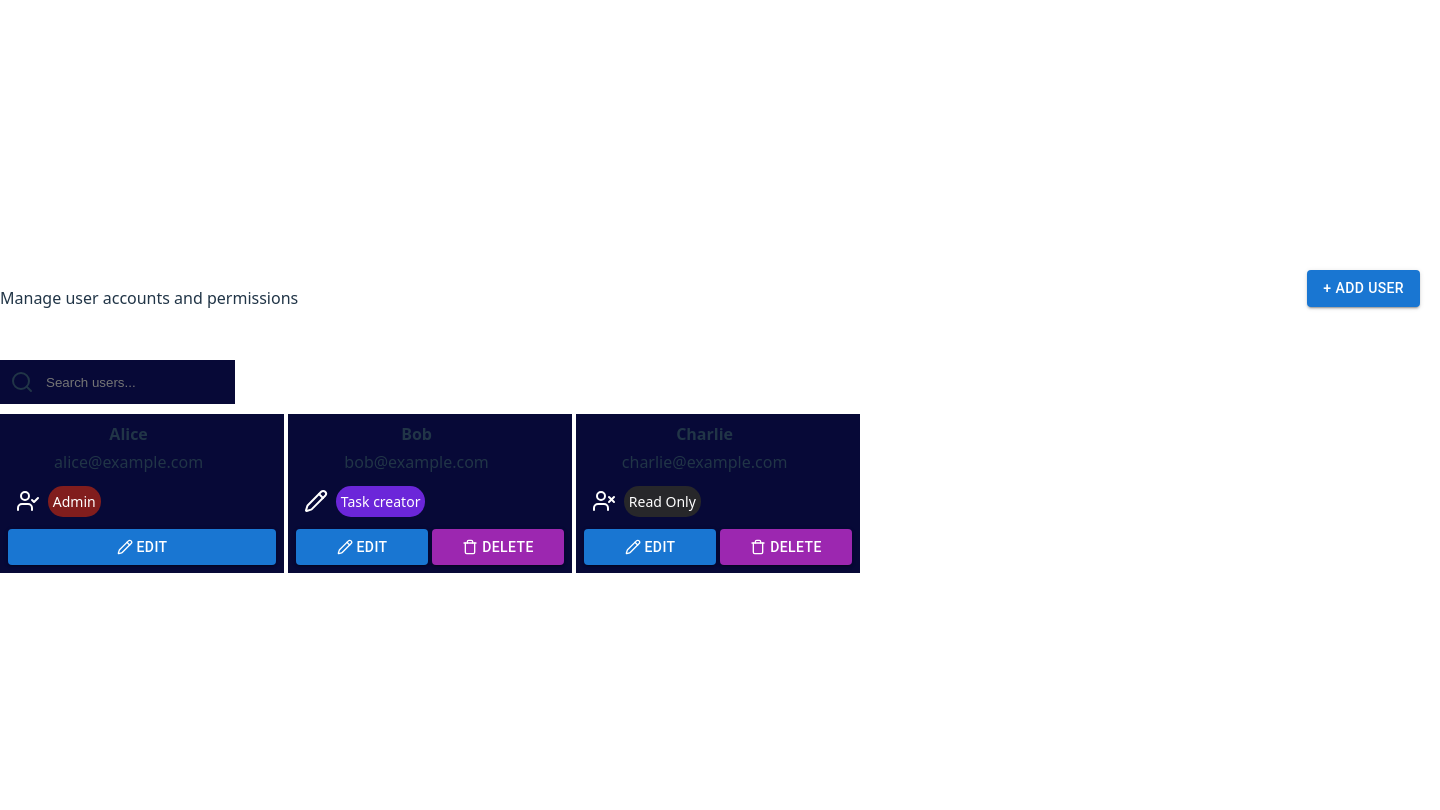
Scenario: UserManagement Component › opens Create User modal when Add User clicked
Step 1. Click the button "+ Add User" → (1364, 288), box [1307,270,1420,307]
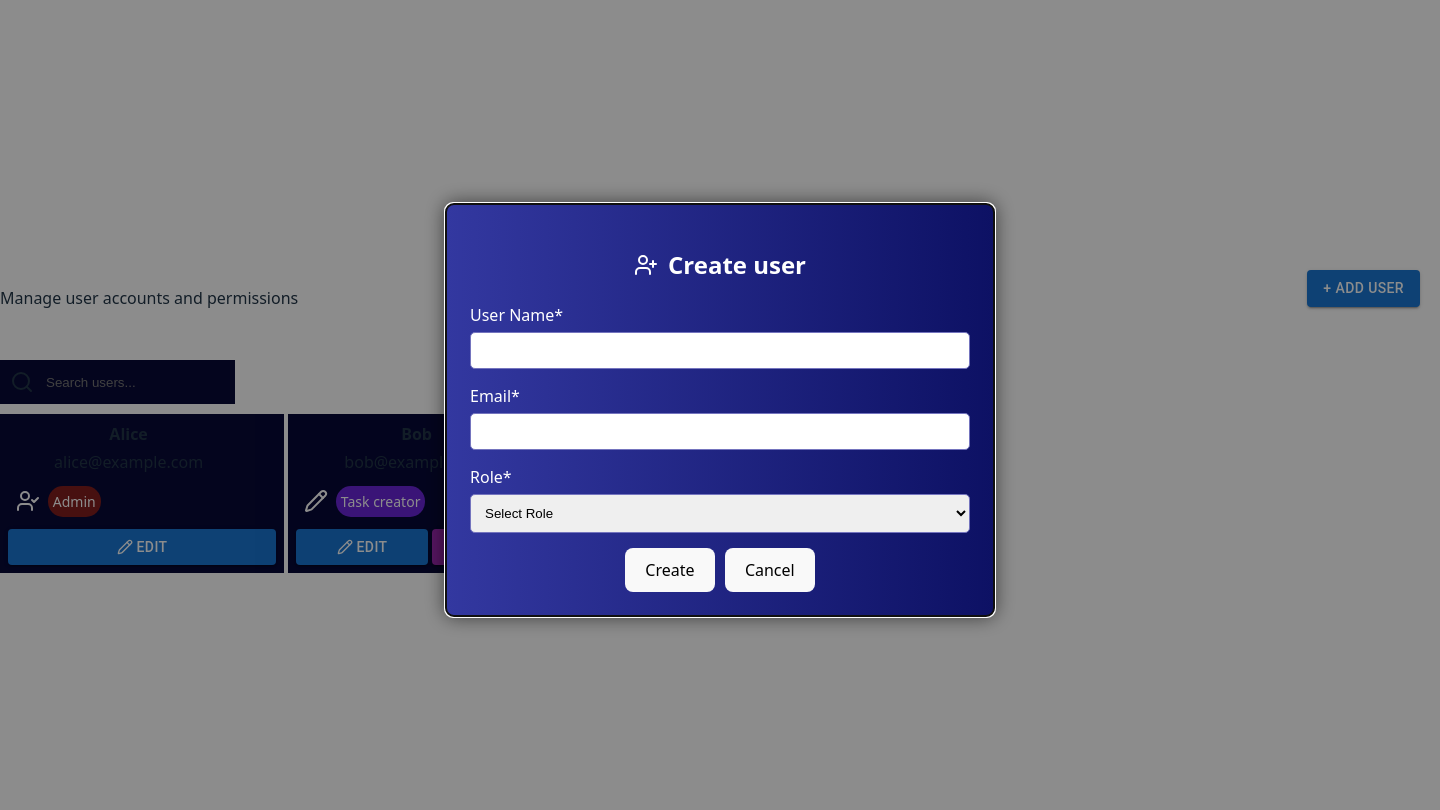
Now the heading "Create user" is shown, box [634,248,806,281]
